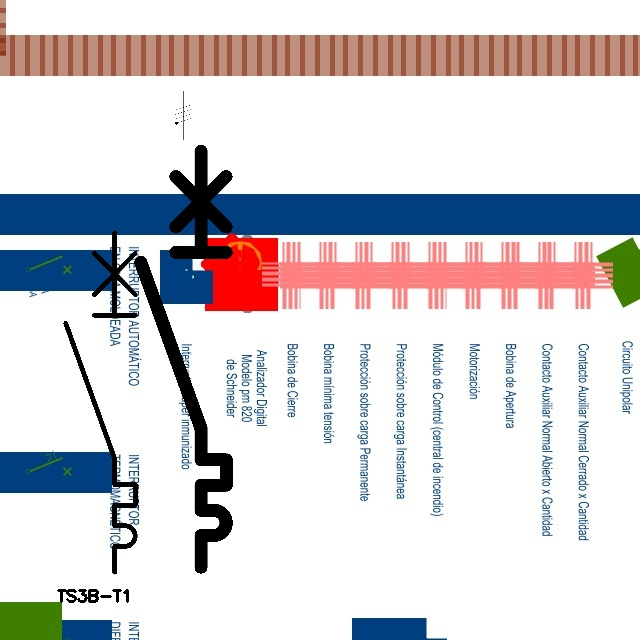interruptor_termomagnetico: (130, 140, 237, 577), (57, 224, 144, 581)
